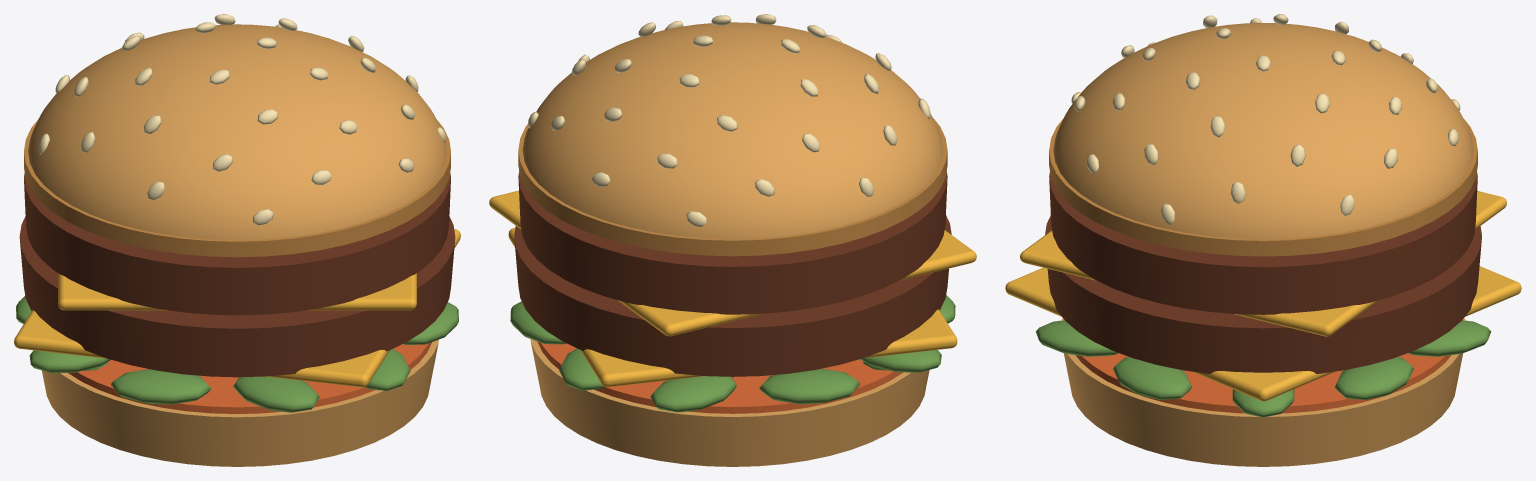
Rendered from burger-double.glb.
3 views of the same model, side by side, from view 1: azimuth 30°, elevation 25°; view 2: azimuth 150°, elevation 25°; view 3: azimuth 270°, elevation 25° (orthographic).
Visible parts, largest first — view 1: TopBun, burger-double, Patty, Lettuce, Sesame; view 2: TopBun, burger-double, Patty, Lettuce, Sesame; view 3: burger-double, TopBun, Patty, Lettuce, Sesame.
Part boxes in pixels (x1,y1,x2,y2): TopBun: (28, 24, 446, 239); burger-double: (14, 119, 460, 466); Patty: (19, 216, 455, 377); Lettuce: (16, 296, 458, 412); Sesame: (38, 14, 446, 225); TopBun: (522, 22, 943, 238); burger-double: (489, 118, 976, 466); Patty: (514, 215, 951, 376); Lettuce: (510, 295, 955, 412); Sesame: (528, 14, 930, 226); burger-double: (1005, 118, 1521, 466); TopBun: (1053, 23, 1473, 239); Patty: (1045, 215, 1481, 373); Lettuce: (1035, 320, 1491, 417); Sesame: (1071, 14, 1460, 224).
Size of the model in its own units: 2.41 by 1.76 by 2.41.
